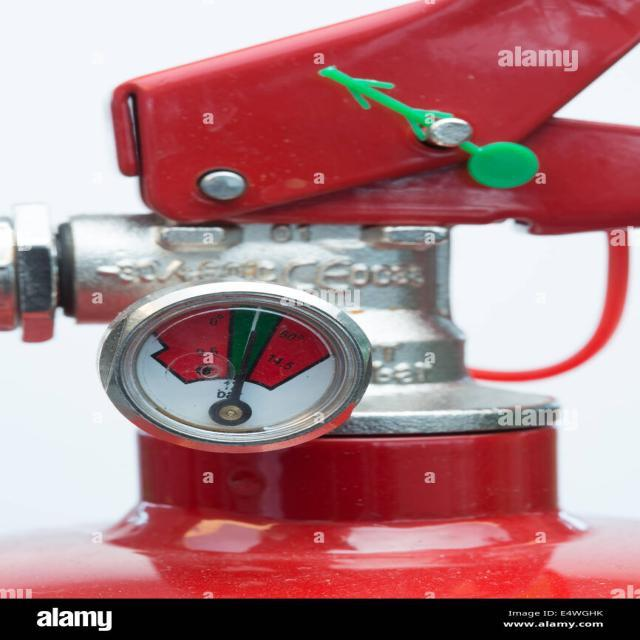pressure gauge: (100, 282, 370, 452)
